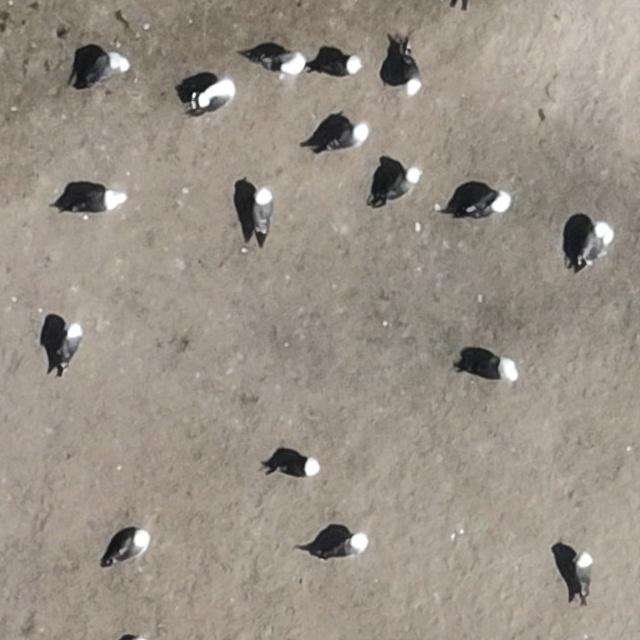umineko: (194, 79, 236, 114), (92, 52, 132, 86), (466, 357, 516, 383), (464, 193, 512, 219), (111, 530, 150, 561), (397, 52, 422, 98), (72, 189, 120, 212), (322, 54, 364, 78), (584, 224, 611, 261), (321, 536, 366, 558), (260, 51, 306, 72), (254, 188, 274, 232), (387, 169, 418, 197), (330, 125, 366, 147), (276, 460, 320, 478), (63, 325, 82, 362), (576, 555, 593, 595)
